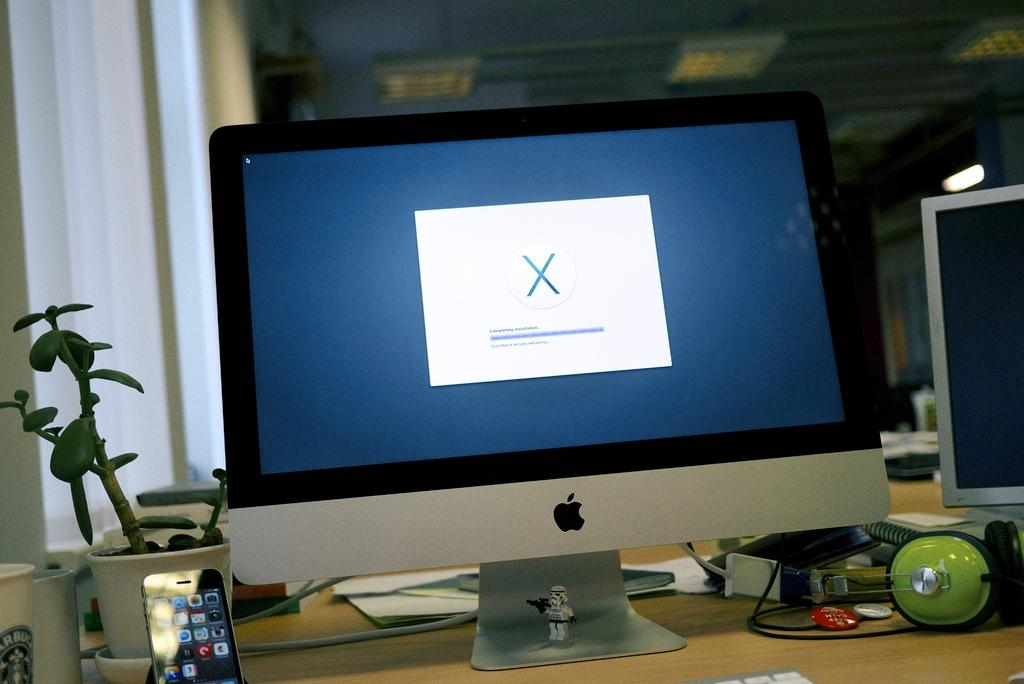Computer-monitor: (204, 87, 895, 668)
